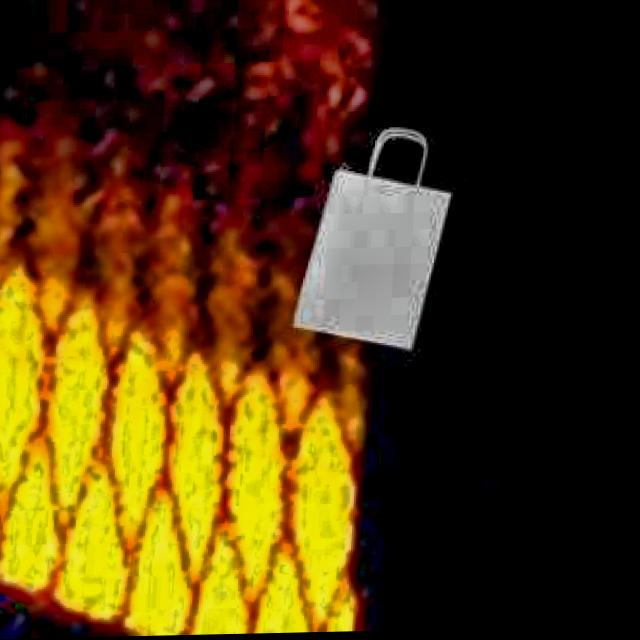Paper-bag: (276, 112, 468, 366)
